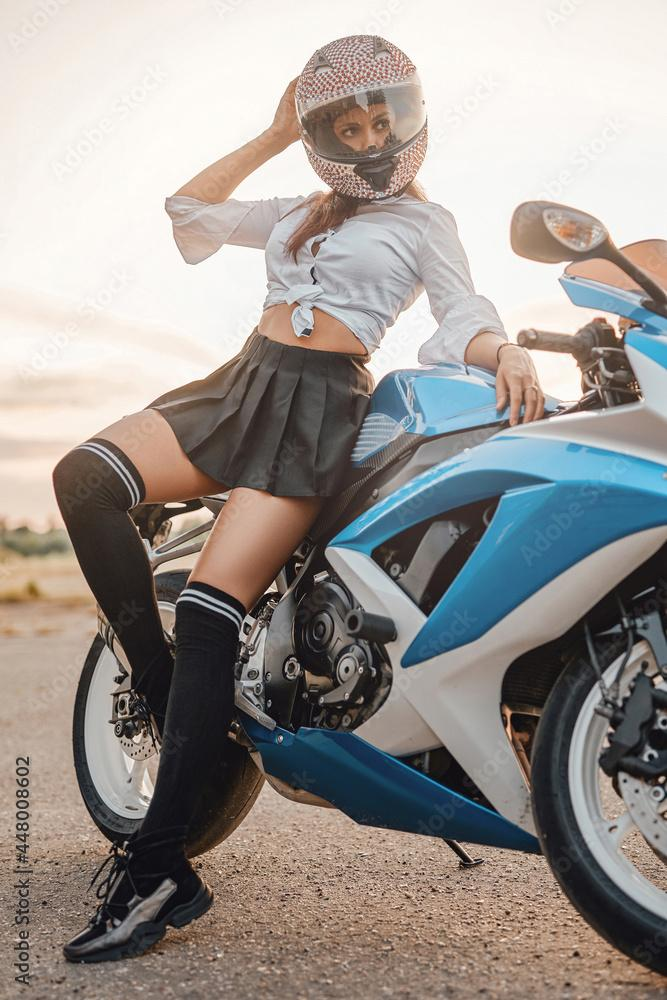helmet: (293, 33, 429, 206)
